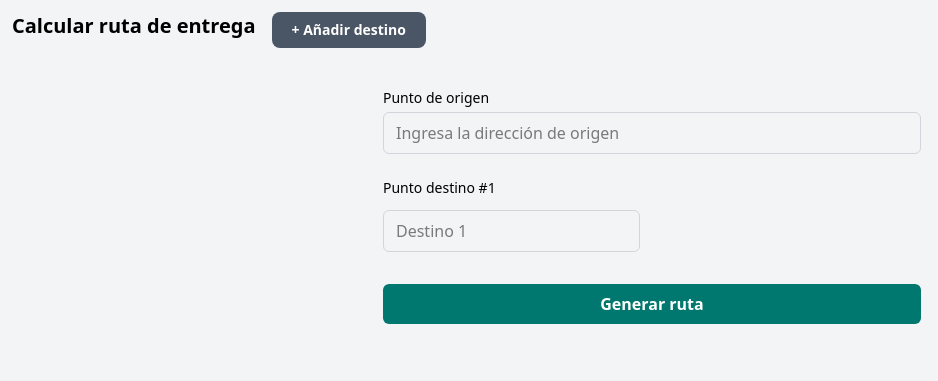
it: Componente DeliveryRoutes › muestra error si se intenta enviar sin dirección de origen
What coordinates should you click on to do the following:
click the button "Generar ruta"
I would click on:
 (652, 304)
Its box is [383,284,921,324].
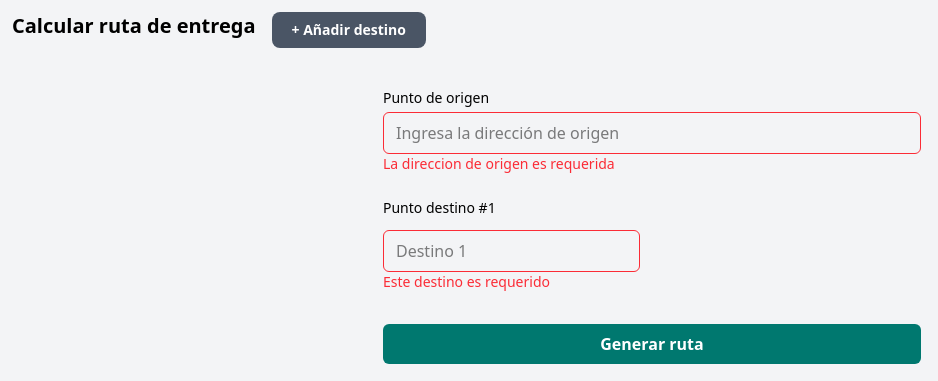
Now the text "La direccion de origen es requerida" is shown, box [383,154,615,173]
